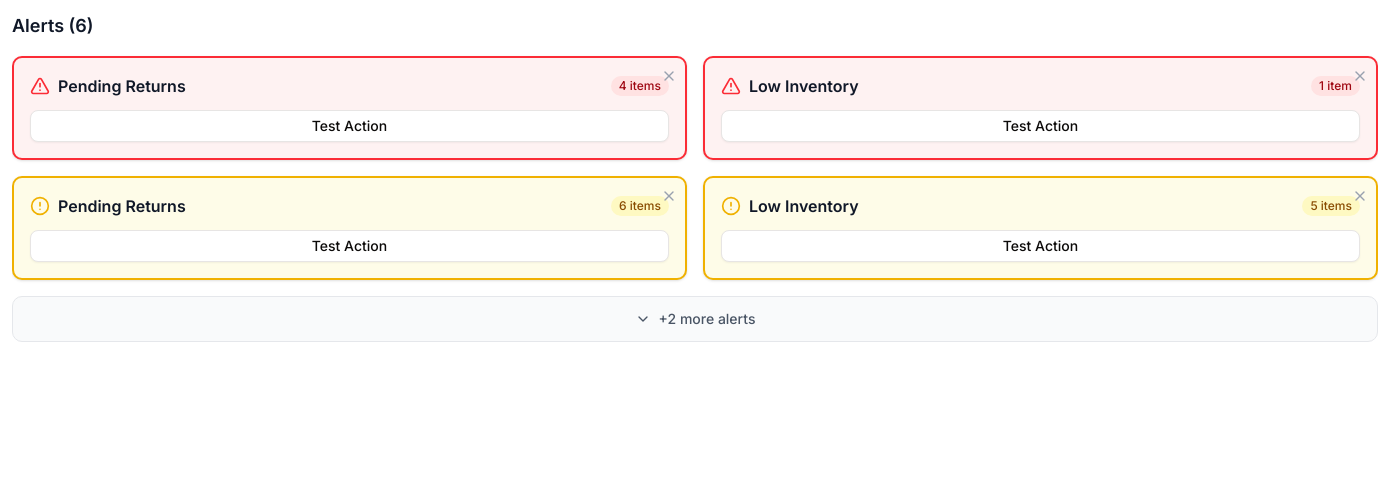
AlertsSection › should collapse back to 4 alerts when "Show less" clicked
This screenshot has width=1390, height=479.
// Expand first
Click the button with test id "show-more-alerts".
click(695, 319)  # box x1=12 y1=296 x2=1378 y2=342
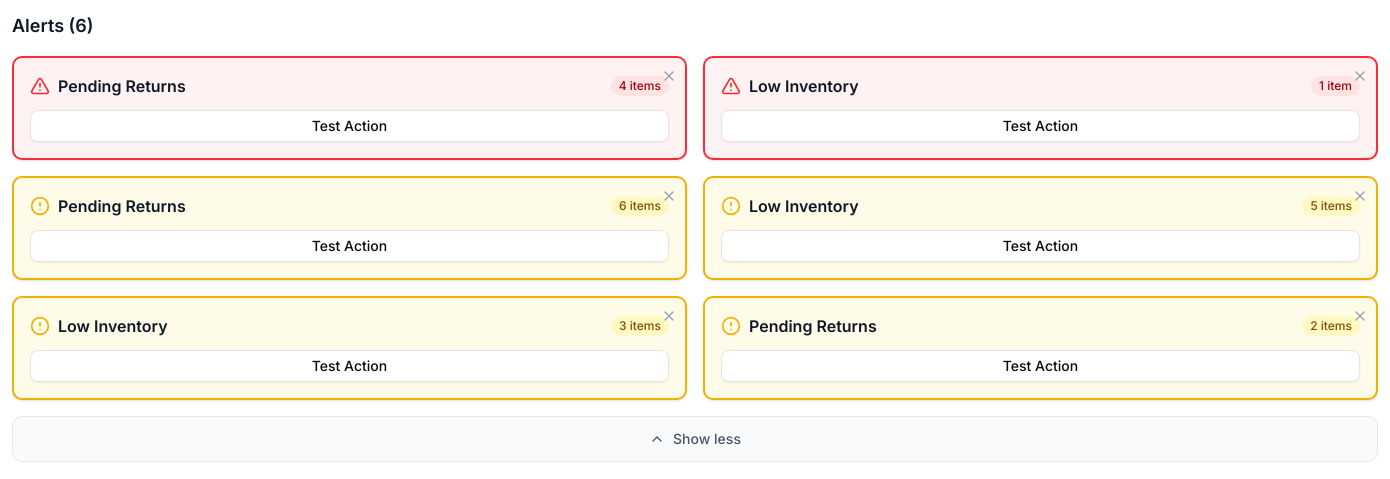
// Then collapse
Click the button with test id "show-less-alerts".
click(695, 439)  # box x1=12 y1=416 x2=1378 y2=462
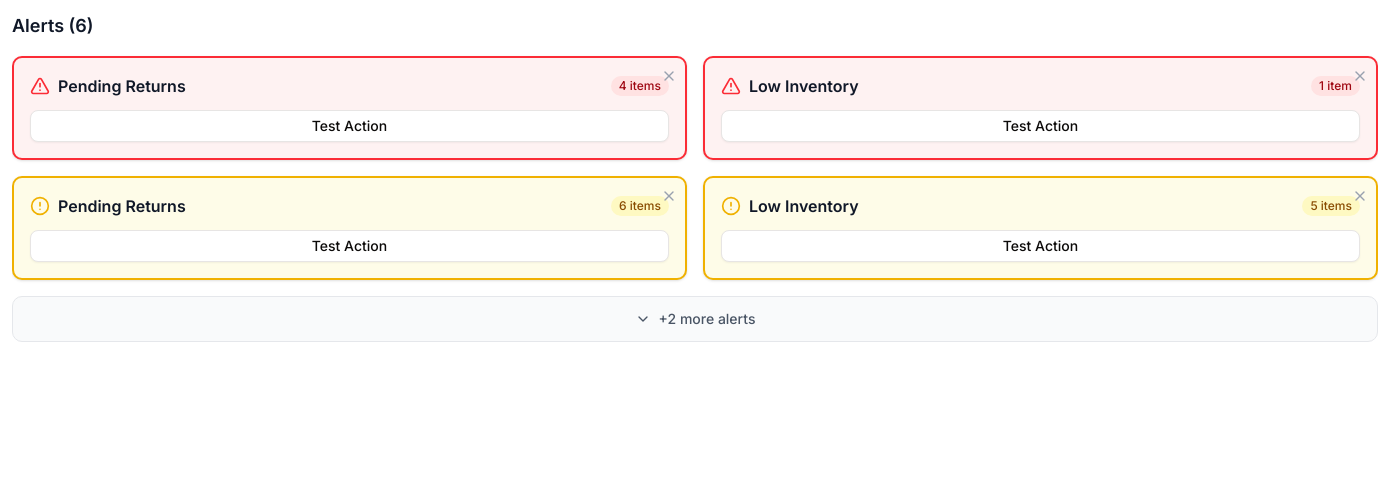
Expected: the button "+2 more alerts" is shown, x1=12 y1=296 x2=1378 y2=342
